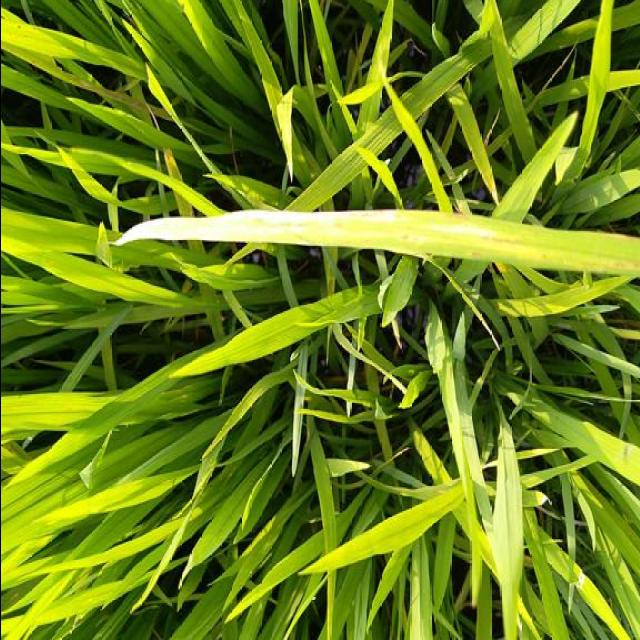Leaf Blight: (119, 210, 509, 256)
